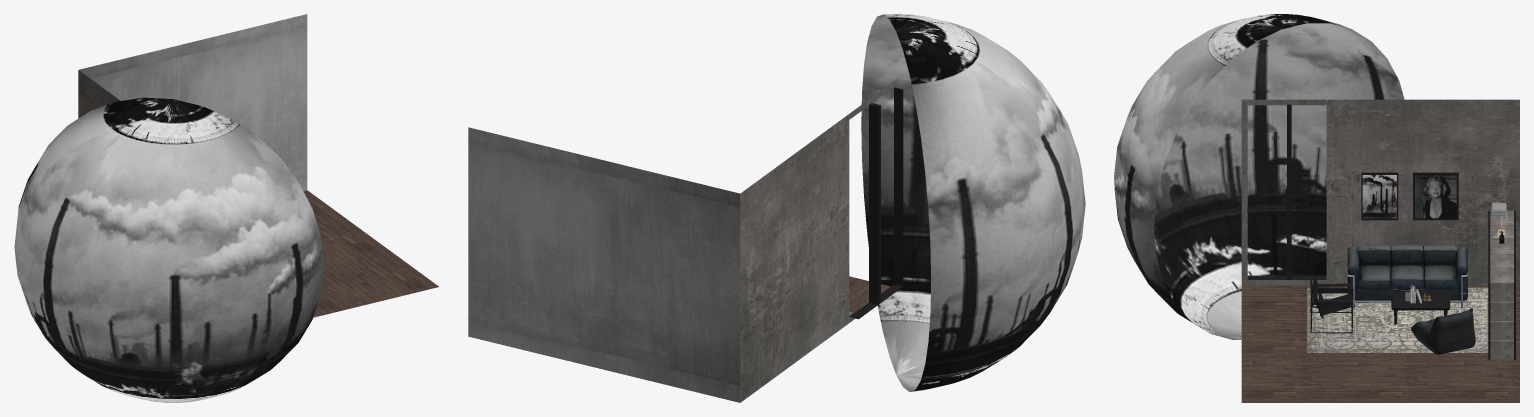
File: mini-loft.glb
The picture shows the model from 3 angles, left to right: view 1: azimuth 30°, elevation 25°; view 2: azimuth 150°, elevation 25°; view 3: azimuth 270°, elevation 25°; orthographic projection. The views are drawn at different scales.
Parts seen in each view (by area): view 1: Sphere, Plane; view 2: Plane, Sphere; view 3: Sphere, Plane, Plane.001, node_0_Material.005_0, Cube, Plane.002, node_0.002_Material.007_0, Plane.004, node_0.001_Material.006_0, Cube.002, node_0.004_Material.011_0.
Part boxes in pixels (x1,y1,x2,y2): Sphere: (14, 97, 323, 402); Plane: (78, 14, 438, 317); Plane: (468, 79, 903, 402); Sphere: (861, 14, 1085, 391); Sphere: (1114, 14, 1404, 339); Plane: (1241, 99, 1519, 402); Plane.001: (1307, 287, 1488, 352); node_0_Material.005_0: (1347, 245, 1467, 308); Cube: (1488, 210, 1515, 359); Plane.002: (1413, 172, 1458, 220); node_0.002_Material.007_0: (1411, 308, 1475, 355); Plane.004: (1361, 172, 1398, 220); node_0.001_Material.006_0: (1310, 275, 1353, 333); Cube.002: (1391, 294, 1450, 324); node_0.004_Material.011_0: (1405, 216, 1505, 303).
Bounding box in the file's own units: 9.6 × 6.89 × 8.33.
12 materials, 11 textured.
